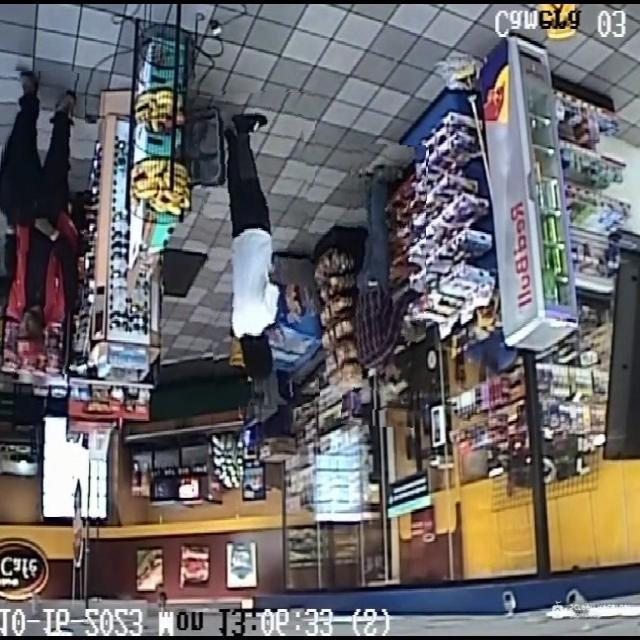Normal: (201, 91, 315, 407), (1, 71, 84, 374), (344, 144, 426, 427)
